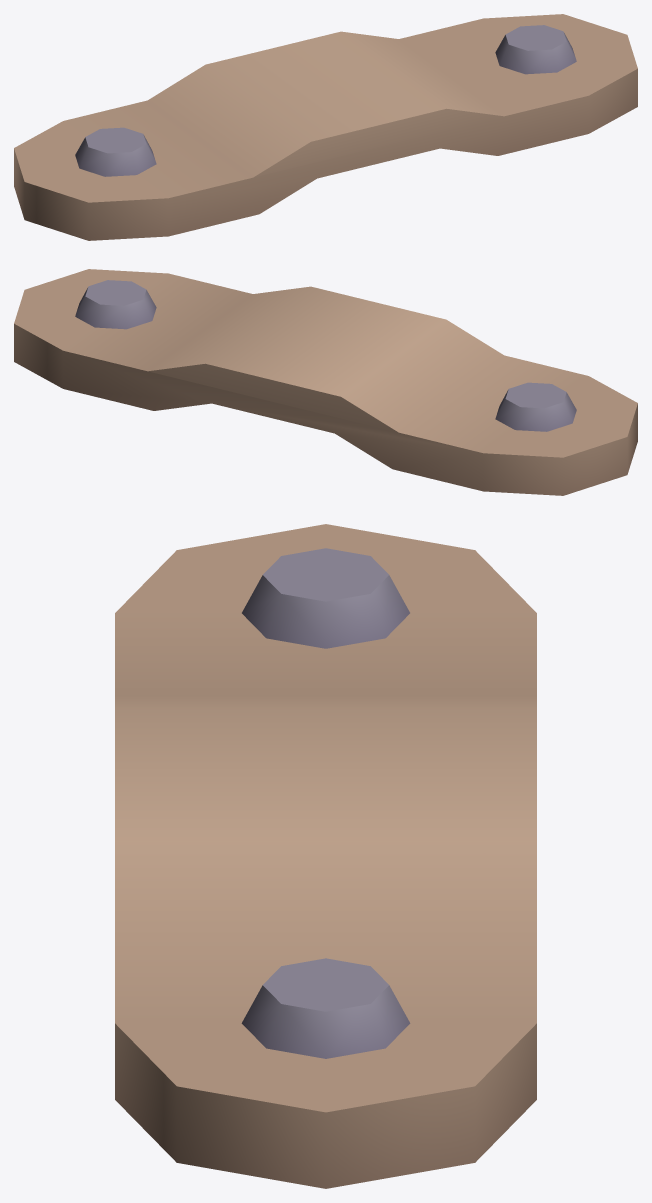
Rendered from handles-handle-strap-bulge.glb.
3 renders of one model, top to bottom at view 1: azimuth 30°, elevation 25°; view 2: azimuth 150°, elevation 25°; view 3: azimuth 270°, elevation 25°, orthographic. The views are drawn at different scales.
Visible parts, largest first — view 1: handles-handle-strap-bulge; view 2: handles-handle-strap-bulge; view 3: handles-handle-strap-bulge.
Boxes of the visible parts, bbox=[...] form: handles-handle-strap-bulge: bbox=[14, 14, 637, 240]; handles-handle-strap-bulge: bbox=[14, 269, 637, 495]; handles-handle-strap-bulge: bbox=[115, 524, 536, 1188].
Size of the model in its own units: 0.165 by 0.0157 by 0.05.
